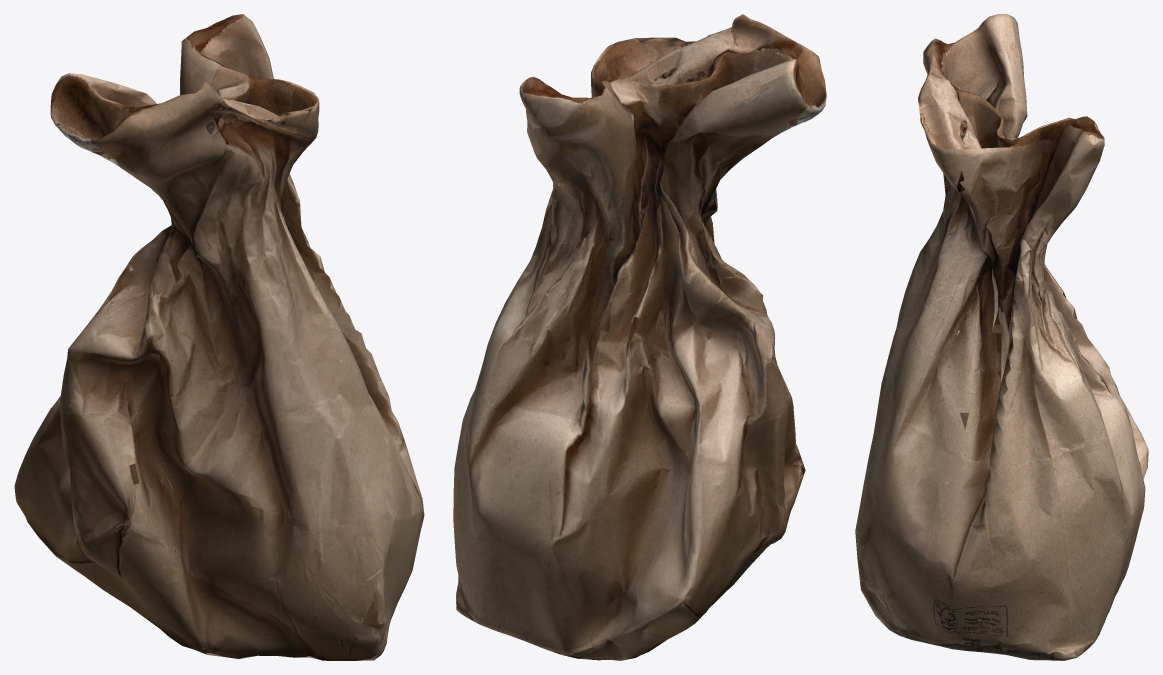
Rendered from paper_bag_scan_medpoly.glb.
The picture shows the model from 3 angles, left to right: view 1: azimuth 30°, elevation 25°; view 2: azimuth 150°, elevation 25°; view 3: azimuth 270°, elevation 25°; orthographic projection. The views are drawn at different scales.
Parts seen in each view (by area): view 1: Paperbag; view 2: Paperbag; view 3: Paperbag.
Part boxes in pixels (box(x1,y1,x2,y2)): Paperbag: box(14, 14, 424, 660); Paperbag: box(453, 14, 826, 660); Paperbag: box(855, 14, 1148, 660).
Bounding box in the file's own units: 1.11 × 1.82 × 0.936.
Materials: 1 (1 with a texture image).
